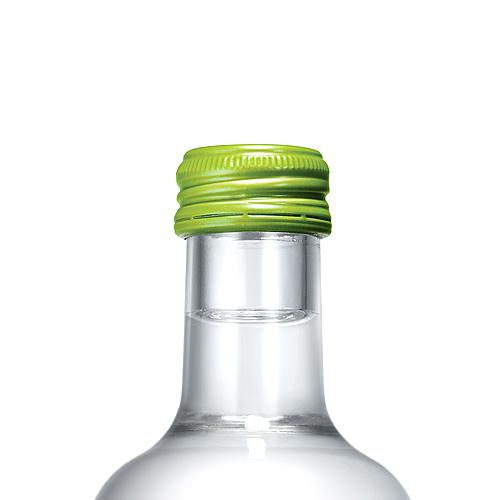soju: (86, 143, 421, 500)
